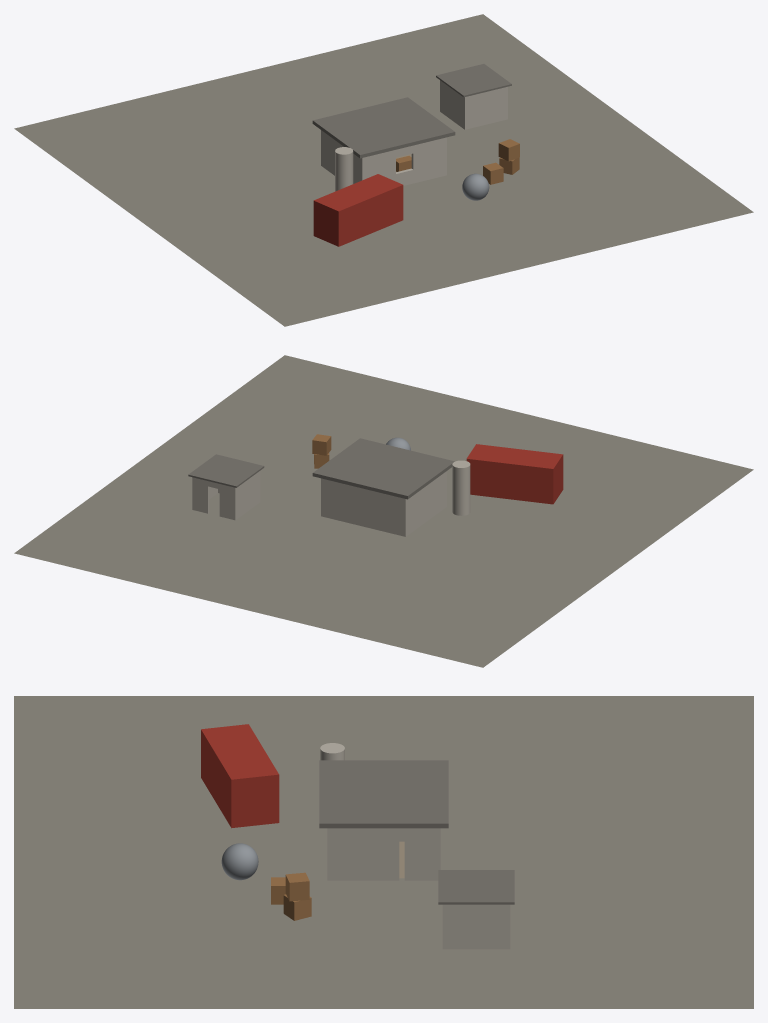
3 renders of one model, top to bottom at view 1: azimuth 30°, elevation 25°; view 2: azimuth 150°, elevation 25°; view 3: azimuth 270°, elevation 25°, orthographic. The views are drawn at different scales.
Visible parts, largest first — view 1: ground, roof, container, shed_s, shed_roof, wall_s_right, wall_w, wall_s_left, pillar, shed_w, ball; view 2: ground, roof, container, wall_n, shed_roof, wall_w, pillar, shed_w, shed_n_a, shed_n_b; view 3: ground, roof, container, wall_e_b, shed_e, shed_roof, wall_e_a, ball, crate_c, crate_b.
Boxes of the visible parts, x1,y1,x2,y2 form: ground: (14, 14, 753, 326); roof: (312, 97, 455, 158); container: (313, 174, 403, 246); shed_s: (463, 86, 507, 129); shed_roof: (436, 64, 511, 97); wall_s_right: (411, 138, 445, 182); wall_w: (321, 130, 363, 183); wall_s_left: (364, 150, 395, 180); pillar: (335, 147, 353, 191); shed_w: (441, 81, 463, 128); ball: (462, 173, 489, 200); ground: (14, 355, 753, 667); roof: (312, 438, 454, 499); container: (466, 444, 563, 504); wall_n: (321, 478, 407, 536); shed_roof: (188, 454, 264, 487); wall_w: (405, 471, 446, 535); pillar: (452, 460, 470, 515); shed_w: (236, 472, 258, 518); shed_n_a: (219, 484, 236, 520); shed_n_b: (192, 477, 209, 513); ground: (14, 696, 753, 1008); roof: (319, 760, 448, 828); container: (201, 724, 279, 828); wall_e_b: (327, 828, 399, 880); shed_e: (445, 904, 507, 949); shed_roof: (438, 870, 514, 904); wall_e_a: (404, 828, 440, 880); ball: (221, 843, 258, 880); crate_c: (285, 872, 309, 901); crate_b: (283, 894, 311, 920).
Bounding box in the file's own units: 36 × 3.5 × 36.
